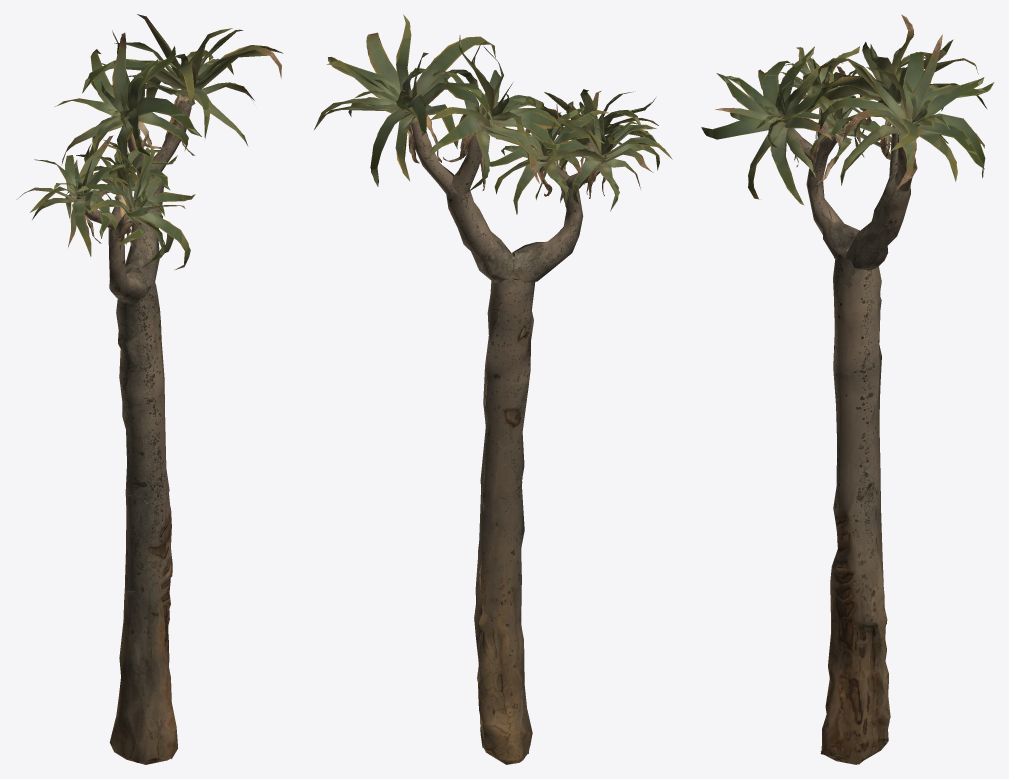
Rendered from quiver_tree_01.glb.
The picture shows the model from 3 angles, left to right: view 1: azimuth 30°, elevation 25°; view 2: azimuth 150°, elevation 25°; view 3: azimuth 270°, elevation 25°; orthographic projection. The views are drawn at different scales.
Parts seen in each view (by area): view 1: quiver_tree_01; view 2: quiver_tree_01; view 3: quiver_tree_01.
Part boxes in pixels (x1,y1,x2,y2): quiver_tree_01: (16,14,283,764); quiver_tree_01: (314,14,672,764); quiver_tree_01: (701,14,994,764).
Bounding box in the file's own units: 1.18 × 2.71 × 0.9707.
Materials: 2 (2 with a texture image).
